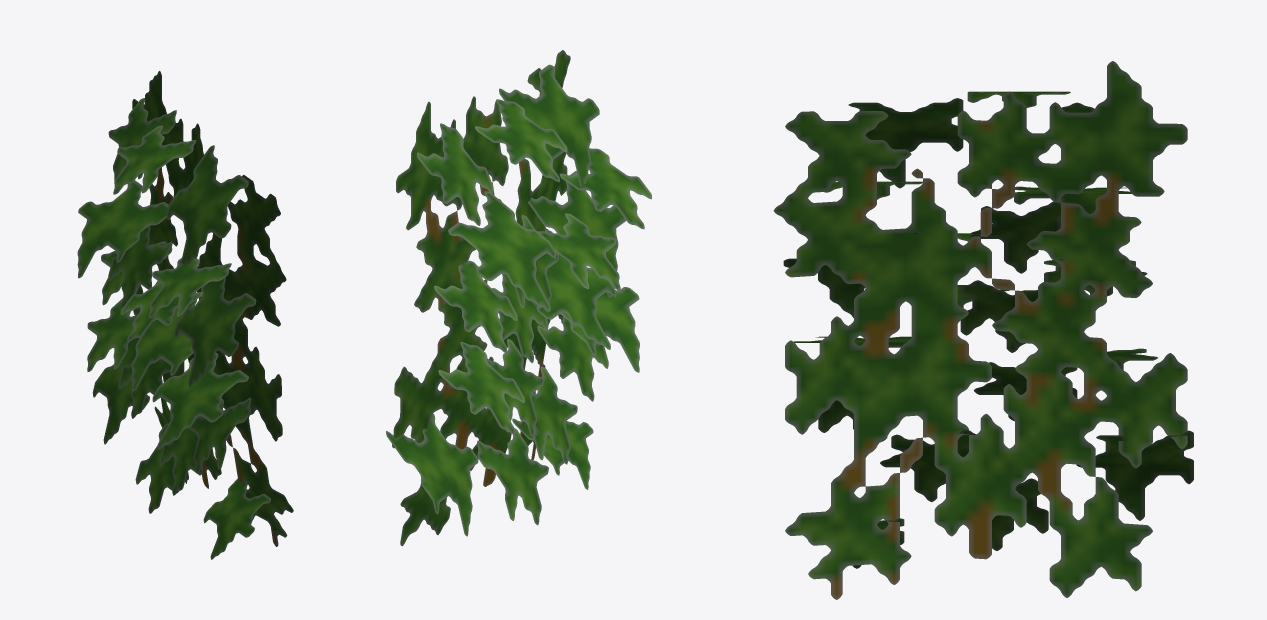
Rendered from Ivy_1.fbx.
3 views of the same model, side by side, from view 1: azimuth 30°, elevation 25°; view 2: azimuth 150°, elevation 25°; view 3: azimuth 270°, elevation 25° (orthographic). The views are drawn at different scales.
Visible parts, largest first — view 1: Plane.009; view 2: Plane.009; view 3: Plane.009.
Part boxes in pixels (<box>): Plane.009: <box>77,71,293,559</box>; Plane.009: <box>386,50,651,546</box>; Plane.009: <box>773,61,1193,599</box>.
Size of the model in its own units: 61.23 by 186 by 138.
